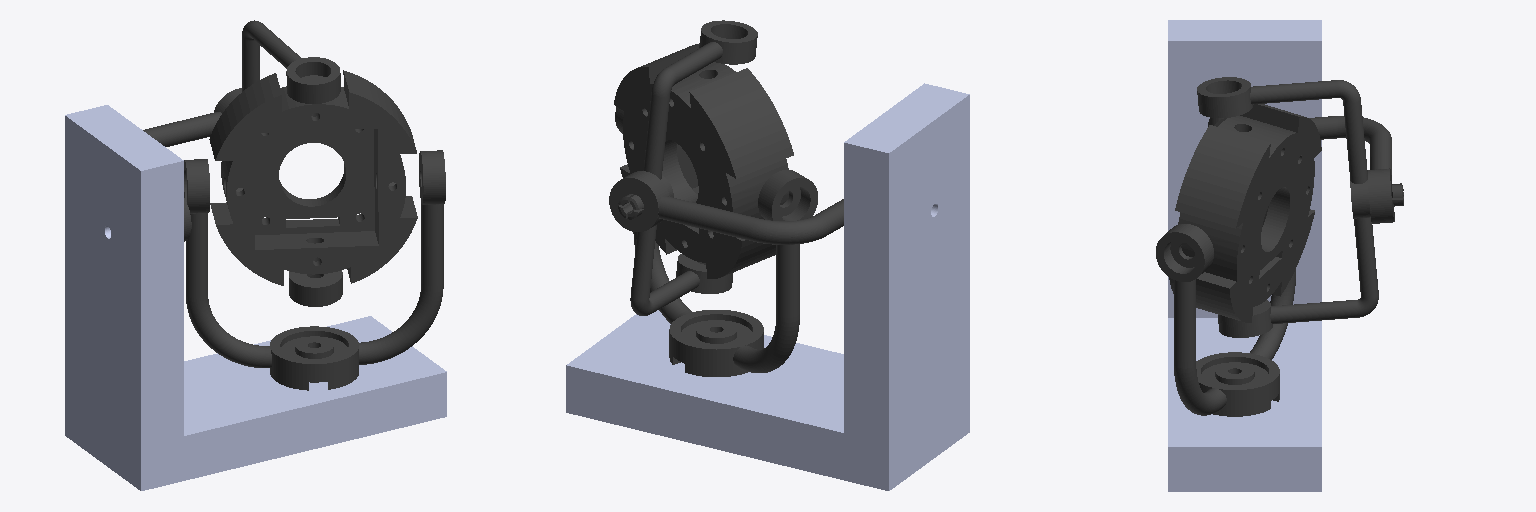
URDF robot description (onshape):
<robot name="onshape">
    <link name="base_link">
        <origin xyz="0 0 0" rpy="0 0 0" />
    </link>
    <link name="ae_2dof_b_x1">
        <visual>
            <origin xyz="3.68629e-18 0.022 -1.37008e-17" rpy="-1.5708 -1.5708 0" />
            <geometry>
                <mesh filename="package://ojos/urdf/ae_2dof_b_x1.stl" />
            </geometry>
            <material name="ae_2dof_b_x1_material">
                <color rgba="0.792157 0.819608 0.933333 1.0" />
            </material>
        </visual>
        <collision>
            <origin xyz="3.68629e-18 0.022 -1.37008e-17" rpy="-1.5708 -1.5708 0" />
            <geometry>
                <mesh filename="package://ojos/urdf/ae_2dof_b_x1.stl" />
            </geometry>
            <material name="ae_2dof_b_x1_material">
                <color rgba="0.792157 0.819608 0.933333 1.0" />
            </material>
        </collision>
        <inertial>
            <origin xyz="0.0236304 0.0170064 0.023624" rpy="0 0 0" />
            <mass value="0.0680606" />
            <inertia ixx="7.6719e-05" ixy="-3.40547e-09" ixz="-2.42982e-09" iyy="4.49475e-05" iyz="2.23644e-05" izz="4.49198e-05" />
        </inertial>
    </link>

    <joint name="base_to_ae" type="fixed">
        <parent link="base_link" />
        <child link="ae_2dof_b_x1" />

    </joint>
    <link name="ae_2dof_e1_x1">
        <visual>
            <origin xyz="-0.035 0 -0.042" rpy="1.5708 1.5708 0" />
            <geometry>
                <mesh filename="package://ojos/urdf/ae_2dof_e1_x1.stl" />
            </geometry>
            <material name="ae_2dof_e1_x1_material">
                <color rgba="0.309804 0.309804 0.309804 1.0" />
            </material>
        </visual>
        <collision>
            <origin xyz="-0.035 0 -0.042" rpy="1.5708 1.5708 0" />
            <geometry>
                <mesh filename="package://ojos/urdf/ae_2dof_e1_x1.stl" />
            </geometry>
            <material name="ae_2dof_e1_x1_material">
                <color rgba="0.309804 0.309804 0.309804 1.0" />
            </material>
        </collision>
        <inertial>
            <origin xyz="-0.0195401 4.09697e-08 -0.0162465" rpy="0 0 0" />
            <mass value="0.00262801" />
            <inertia ixx="1.17275e-06" ixy="-1.20743e-12" ixz="-2.3302e-12" iyy="5.63564e-07" iyz="-4.21875e-07" izz="6.39138e-07" />
        </inertial>
    </link>

    <link name="ae_2dof_e2_x1">
        <visual>
            <origin xyz="6.93889e-18 6.93889e-18 0" rpy="1.5708 1.57545e-17 1.05083e-17" />
            <geometry>
                <mesh filename="package://ojos/urdf/ae_2dof_e2_x1.stl" />
            </geometry>
            <material name="ae_2dof_e2_x1_material">
                <color rgba="0.309804 0.309804 0.309804 1.0" />
            </material>
        </visual>
        <collision>
            <origin xyz="6.93889e-18 6.93889e-18 0" rpy="1.5708 1.57545e-17 1.05083e-17" />
            <geometry>
                <mesh filename="package://ojos/urdf/ae_2dof_e2_x1.stl" />
            </geometry>
            <material name="ae_2dof_e2_x1_material">
                <color rgba="0.309804 0.309804 0.309804 1.0" />
            </material>
        </collision>
        <inertial>
            <origin xyz="5.13311e-07 3.75578e-08 0.0193382" rpy="0 0 0" />
            <mass value="0.00267944" />
            <inertia ixx="4.61112e-07" ixy="1.71391e-12" ixz="-1.04145e-11" iyy="1.71654e-06" iyz="9.97828e-15" izz="1.28352e-06" />
        </inertial>
    </link>

    <link name="ae_2dof_be_x4">
        <visual>
            <origin xyz="6.93889e-18 6.93889e-18 0.02525" rpy="1.5708 1.5708 0" />
            <geometry>
                <mesh filename="package://ojos/urdf/ae_2dof_be_x4.stl" />
            </geometry>
            <material name="ae_2dof_be_x4_material">
                <color rgba="0.309804 0.309804 0.309804 1.0" />
            </material>
        </visual>
        <collision>
            <origin xyz="6.93889e-18 6.93889e-18 0.02525" rpy="1.5708 1.5708 0" />
            <geometry>
                <mesh filename="package://ojos/urdf/ae_2dof_be_x4.stl" />
            </geometry>
            <material name="ae_2dof_be_x4_material">
                <color rgba="0.309804 0.309804 0.309804 1.0" />
            </material>
        </collision>
        <inertial>
            <origin xyz="6.56226e-18 3.68774e-09 -0.000219414" rpy="0 0 0" />
            <mass value="0.000446715" />
            <inertia ixx="1.23651e-08" ixy="8.2329e-15" ixz="4.25482e-26" iyy="2.28961e-09" iyz="-1.29592e-25" izz="1.23805e-08" />
        </inertial>
    </link>

    <joint name="pitch2" type="revolute">
        <origin xyz="0.02525 6.93889e-18 0.035" rpy="-1.5708 -0.962468 1.5708" />
        <parent link="ae_2dof_e2_x1" />
        <child link="ae_2dof_be_x4" />
        <axis xyz="0 0 1" />
        <limit effort="1" velocity="20" />
        <joint_properties friction="0.0" />
    </joint>

    <joint name="pitch1" type="revolute">
        <origin xyz="-0.035 -1.38778e-17 -0.042" rpy="1.5708 -0.0595024 1.5708" />
        <parent link="ae_2dof_e1_x1" />
        <child link="ae_2dof_e2_x1" />
        <axis xyz="0 0 1" />
        <limit effort="1" velocity="20" />
        <joint_properties friction="0.0" />
    </joint>

    <joint name="leftPlate" type="revolute">
        <origin xyz="0.011 0.0147756 0.0575" rpy="1.5708 0.0851817 -1.5708" />
        <parent link="ae_2dof_b_x1" />
        <child link="ae_2dof_e1_x1" />
        <axis xyz="0 0 1" />
        <limit effort="1" velocity="20" lower="-0.785398" upper="0.785398" />
        <joint_properties friction="0.0" />
    </joint>

    <link name="ae_2dof_e3_x1">
        <visual>
            <origin xyz="6.93889e-18 6.93889e-18 -0.0065" rpy="-1.5708 -2.33652e-32 -9.89064e-17" />
            <geometry>
                <mesh filename="package://ojos/urdf/ae_2dof_e3_x1.stl" />
            </geometry>
            <material name="ae_2dof_e3_x1_material">
                <color rgba="0.309804 0.309804 0.309804 1.0" />
            </material>
        </visual>
        <collision>
            <origin xyz="6.93889e-18 6.93889e-18 -0.0065" rpy="-1.5708 -2.33652e-32 -9.89064e-17" />
            <geometry>
                <mesh filename="package://ojos/urdf/ae_2dof_e3_x1.stl" />
            </geometry>
            <material name="ae_2dof_e3_x1_material">
                <color rgba="0.309804 0.309804 0.309804 1.0" />
            </material>
        </collision>
        <inertial>
            <origin xyz="1.65801e-06 -1.87895e-07 -0.017762" rpy="0 0 0" />
            <mass value="0.00520779" />
            <inertia ixx="1.58108e-06" ixy="-7.15715e-12" ixz="-4.82779e-11" iyy="3.44644e-06" iyz="-2.86194e-12" izz="1.99638e-06" />
        </inertial>
    </link>

    <link name="ae_2dof_be_x4_2">
        <visual>
            <origin xyz="3.19189e-16 5.55112e-17 0.02525" rpy="1.71016e-15 7.25283e-15 1.5708" />
            <geometry>
                <mesh filename="package://ojos/urdf/ae_2dof_be_x4.stl" />
            </geometry>
            <material name="ae_2dof_be_x4_material">
                <color rgba="0.309804 0.309804 0.309804 1.0" />
            </material>
        </visual>
        <collision>
            <origin xyz="3.19189e-16 5.55112e-17 0.02525" rpy="1.71016e-15 7.25283e-15 1.5708" />
            <geometry>
                <mesh filename="package://ojos/urdf/ae_2dof_be_x4.stl" />
            </geometry>
            <material name="ae_2dof_be_x4_material">
                <color rgba="0.309804 0.309804 0.309804 1.0" />
            </material>
        </collision>
        <visual>
            <origin xyz="2.98372e-16 6.245e-17 0.02525" rpy="-1.5708 1.5708 0" />
            <geometry>
                <mesh filename="package://ojos/urdf/ae_2dof_bc_x1.stl" />
            </geometry>
            <material name="ae_2dof_bc_x1_material">
                <color rgba="0.309804 0.309804 0.309804 1.0" />
            </material>
        </visual>
        <collision>
            <origin xyz="2.98372e-16 6.245e-17 0.02525" rpy="-1.5708 1.5708 0" />
            <geometry>
                <mesh filename="package://ojos/urdf/ae_2dof_bc_x1.stl" />
            </geometry>
            <material name="ae_2dof_bc_x1_material">
                <color rgba="0.309804 0.309804 0.309804 1.0" />
            </material>
        </collision>
        <visual>
            <origin xyz="6.93889e-18 0 0.02525" rpy="1.5708 1.5708 0" />
            <geometry>
                <mesh filename="package://ojos/urdf/ae_2dof_be_x4.stl" />
            </geometry>
            <material name="ae_2dof_be_x4_material">
                <color rgba="0.309804 0.309804 0.309804 1.0" />
            </material>
        </visual>
        <collision>
            <origin xyz="6.93889e-18 0 0.02525" rpy="1.5708 1.5708 0" />
            <geometry>
                <mesh filename="package://ojos/urdf/ae_2dof_be_x4.stl" />
            </geometry>
            <material name="ae_2dof_be_x4_material">
                <color rgba="0.309804 0.309804 0.309804 1.0" />
            </material>
        </collision>
        <visual>
            <origin xyz="2.63678e-16 5.55112e-17 0.02525" rpy="1.5708 -1.5708 0" />
            <geometry>
                <mesh filename="package://ojos/urdf/ae_2dof_be_x4.stl" />
            </geometry>
            <material name="ae_2dof_be_x4_material">
                <color rgba="0.309804 0.309804 0.309804 1.0" />
            </material>
        </visual>
        <collision>
            <origin xyz="2.63678e-16 5.55112e-17 0.02525" rpy="1.5708 -1.5708 0" />
            <geometry>
                <mesh filename="package://ojos/urdf/ae_2dof_be_x4.stl" />
            </geometry>
            <material name="ae_2dof_be_x4_material">
                <color rgba="0.309804 0.309804 0.309804 1.0" />
            </material>
        </collision>
        <inertial>
            <origin xyz="0.00326388 0.000512496 0.02525" rpy="0 0 0" />
            <mass value="0.0189074" />
            <inertia ixx="4.19426e-06" ixy="3.75549e-08" ixz="6.7282e-09" iyy="3.87701e-06" iyz="3.44606e-14" izz="6.21839e-06" />
        </inertial>
    </link>

    <joint name="roll1" type="revolute">
        <origin xyz="0.02525 -1.79717e-15 -0.0465" rpy="1.5708 -0.103865 -1.5708" />
        <parent link="ae_2dof_e3_x1" />
        <child link="ae_2dof_be_x4_2" />
        <axis xyz="0 0 1" />
        <limit effort="1" velocity="20" />
        <joint_properties friction="0.0" />
    </joint>

    <joint name="bottomPlate" type="revolute">
        <origin xyz="0.053 0.0147756 0.011" rpy="-3.14159 -2.19608e-17 2.53073" />
        <parent link="ae_2dof_b_x1" />
        <child link="ae_2dof_e3_x1" />
        <axis xyz="0 0 1" />
        <limit effort="1" velocity="20" lower="2.18166" upper="3.75246" />
        <joint_properties friction="0.0" />
    </joint>


</robot>

--- Render facts (derived) ---
Views: 3 orthographic renders of the robot side by side, from view 1: azimuth 30°, elevation 25°; view 2: azimuth 150°, elevation 25°; view 3: azimuth 270°, elevation 25°.
Robot: onshape — 7 links, 6 joints (5 revolute, 1 fixed); root link base_link; default pose: joints at zero except 1 at the middle of their limits (bottomPlate = 2.97).
Links seen in each view (by area): view 1: ae_2dof_b_x1, ae_2dof_be_x4_2, ae_2dof_e3_x1, ae_2dof_e2_x1, ae_2dof_e1_x1; view 2: ae_2dof_b_x1, ae_2dof_be_x4_2, ae_2dof_e3_x1, ae_2dof_e2_x1, ae_2dof_e1_x1; view 3: ae_2dof_b_x1, ae_2dof_be_x4_2, ae_2dof_e3_x1, ae_2dof_e2_x1, ae_2dof_e1_x1.
Boxes of the visible links, x1,y1,x2,y2 form: ae_2dof_b_x1: (65, 105, 446, 490); ae_2dof_be_x4_2: (209, 70, 417, 285); ae_2dof_e3_x1: (184, 150, 445, 390); ae_2dof_e2_x1: (242, 20, 342, 306); ae_2dof_e1_x1: (143, 88, 241, 241); ae_2dof_b_x1: (566, 83, 969, 490); ae_2dof_be_x4_2: (614, 43, 793, 278); ae_2dof_e3_x1: (615, 107, 817, 376); ae_2dof_e2_x1: (618, 20, 757, 315); ae_2dof_e1_x1: (609, 171, 843, 244); ae_2dof_b_x1: (1168, 20, 1321, 491); ae_2dof_be_x4_2: (1169, 104, 1321, 322); ae_2dof_e3_x1: (1156, 224, 1295, 416); ae_2dof_e2_x1: (1197, 77, 1403, 337); ae_2dof_e1_x1: (1208, 116, 1394, 223).
Size in the robot's own frame: 0.0816 by 0.0551 by 0.0877 metres.
5 mesh visuals loaded from 6 distinct referenced files (5 binary STL); not drawn: 4 (reference not matched to a file when rendering).